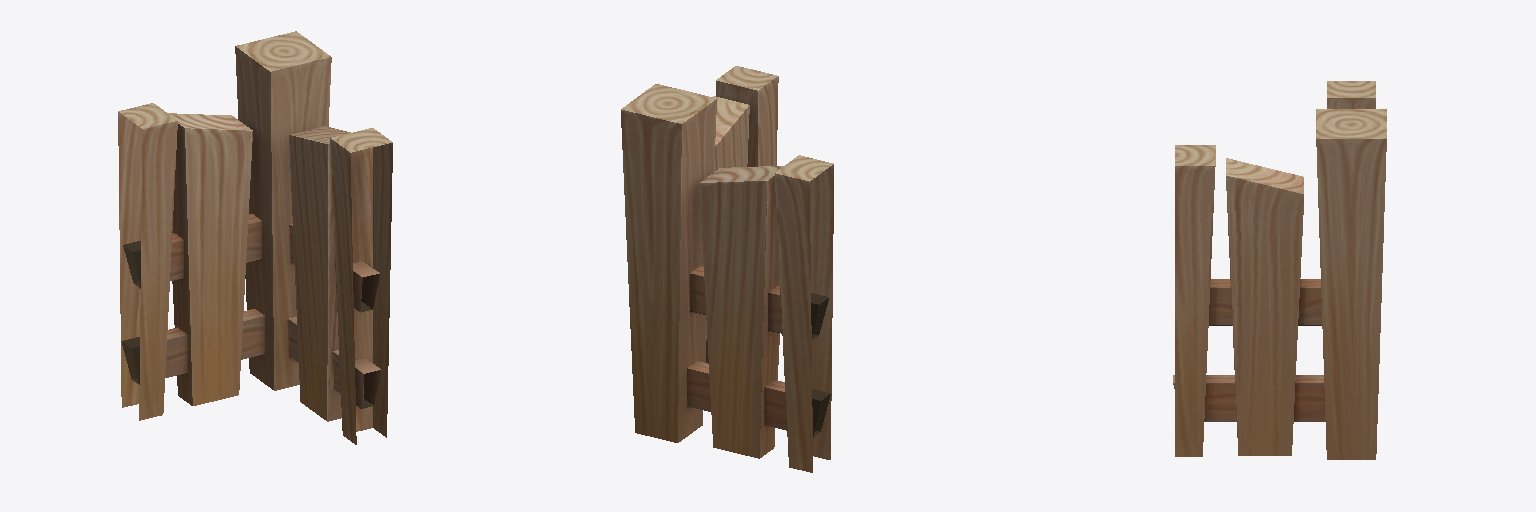
3 renders of one model, left to right at view 1: azimuth 30°, elevation 25°; view 2: azimuth 150°, elevation 25°; view 3: azimuth 270°, elevation 25°, orthographic.
Visible parts, largest first — view 1: fence2_corner2; view 2: fence2_corner2; view 3: fence2_corner2.
Part boxes in pixels (left/top/right/bottom): fence2_corner2: left=118, top=31, right=392, bottom=444; fence2_corner2: left=621, top=66, right=833, bottom=472; fence2_corner2: left=1173, top=81, right=1386, bottom=459.
Size of the model in its own units: 30.66 by 50.83 by 30.25.
Materials: 1 (1 with a texture image).